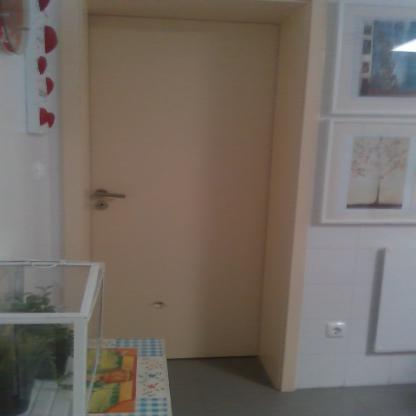door: (86, 13, 264, 356)
lever: (90, 192, 132, 201)
